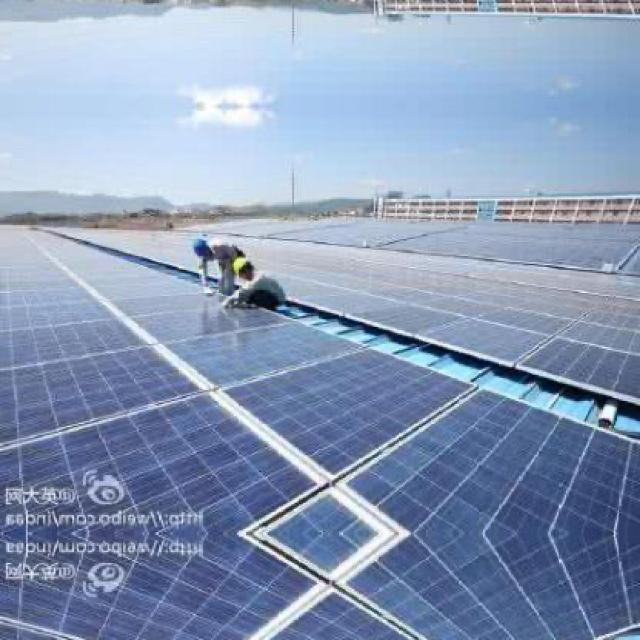helmet: (232, 256, 252, 282), (192, 236, 212, 259)
